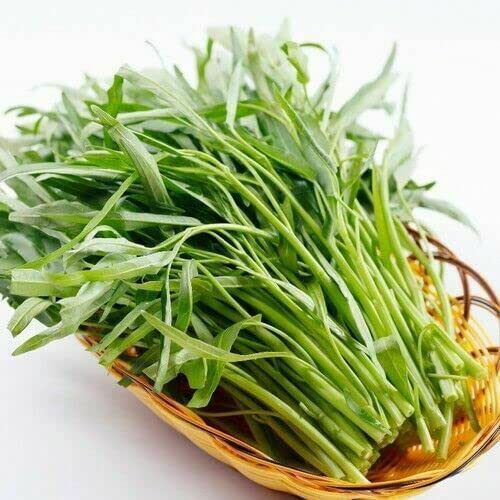Kangkung: (34, 47, 490, 438)
